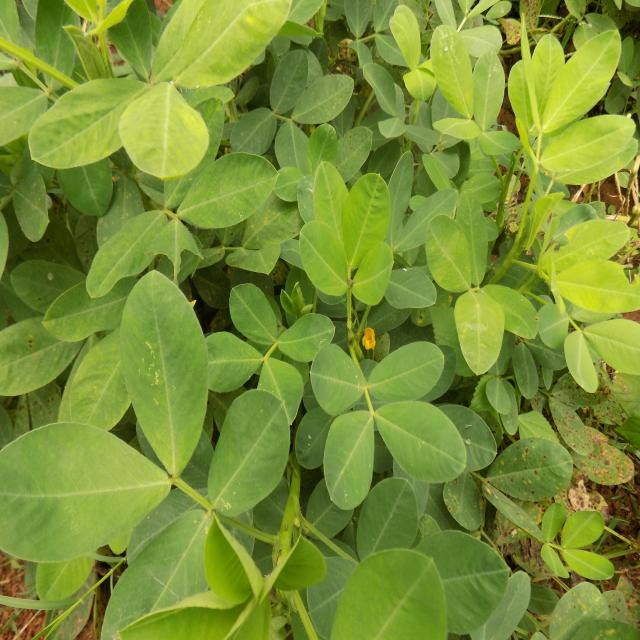Ground nut_healthy: (119, 267, 209, 482), (209, 388, 291, 515), (374, 397, 474, 491), (174, 156, 287, 229), (363, 333, 442, 402)
